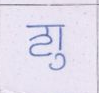aa_matra: (59, 26, 62, 51)
